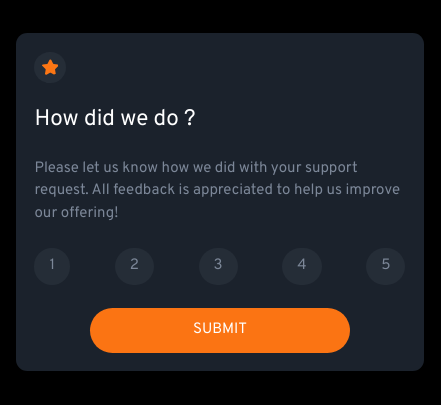
Test: <App /> › If the user presses the submit button while a rating has not been selected, then display an error message.
Click the button with test id "btn-submit": (220, 331) [90,308,350,353]
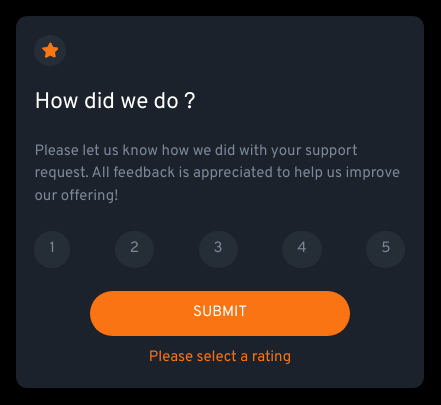
Check: the text with test id "no-rating-selected-error-msg" reads "Please select a rating", box [149,348,291,367]
